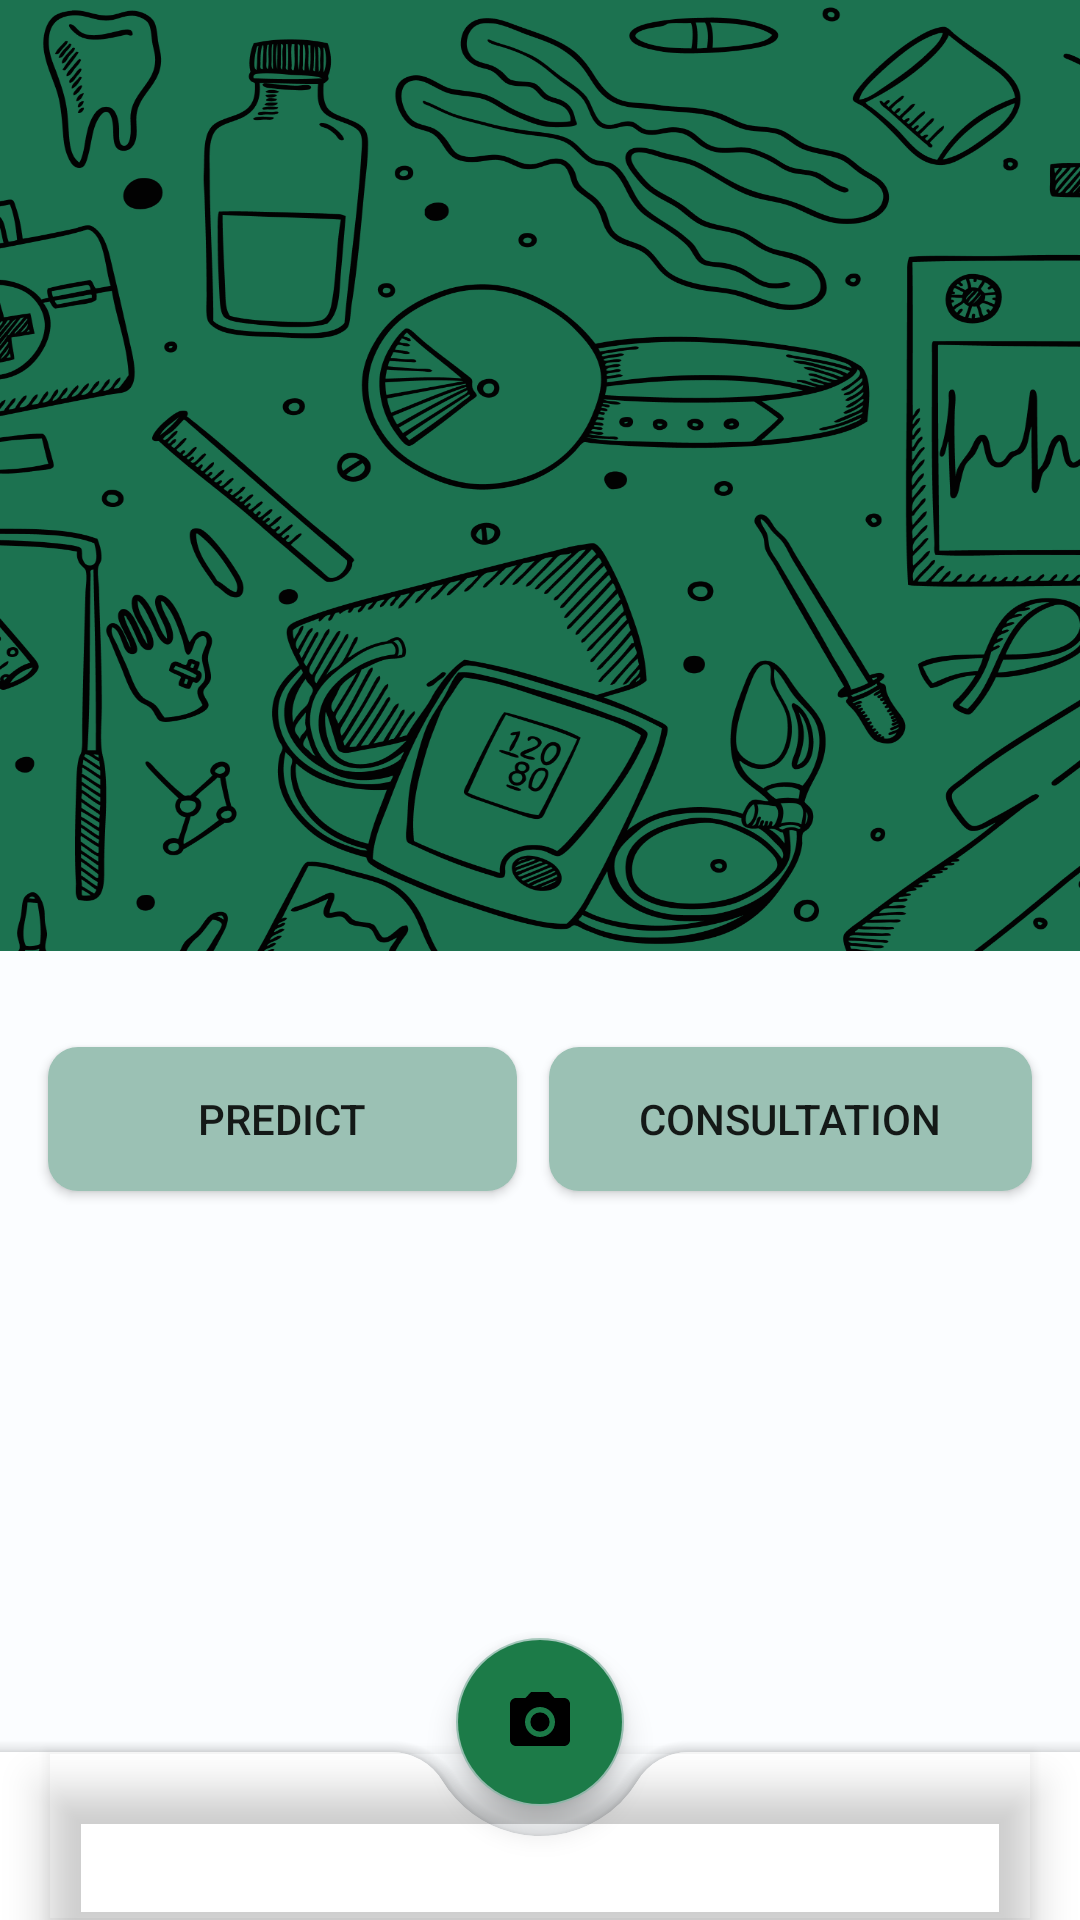

Locate icon controls on the screen. Image size 1080w x 1920h, boxes as [left=x1, top=y1, right=x2, bottom=y2].
camera: [left=456, top=1668, right=624, bottom=1836]
